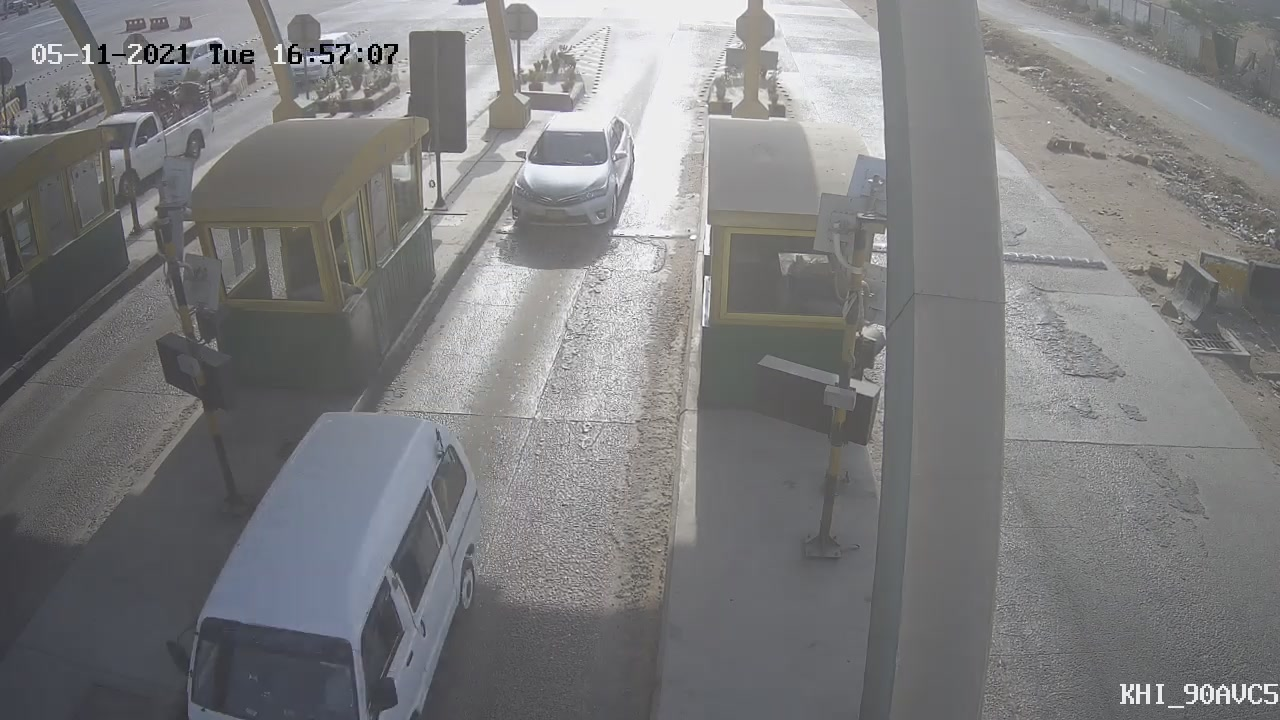F1: (483, 91, 656, 260)
